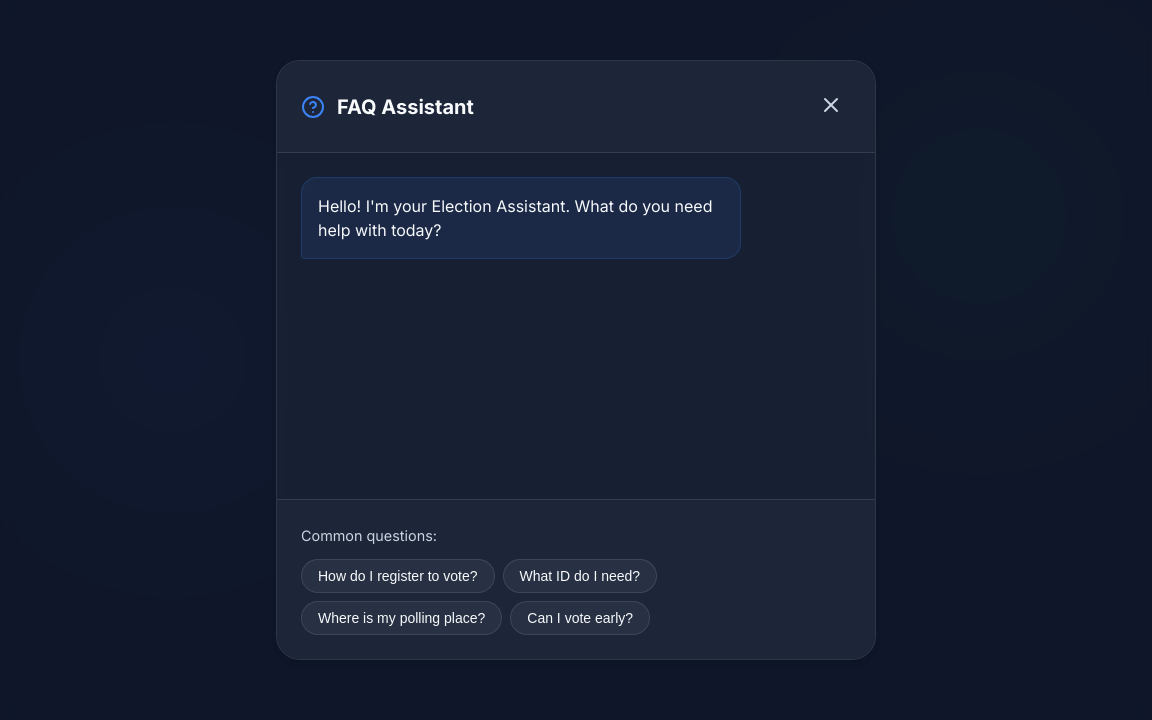
Test: ChatModal › shows a bot response after clicking a FAQ chip
The width and height of the screenshot is (1152, 720).
Click the button "How do I register to vote?" at x=398, y=576, box [301,559,494,593]
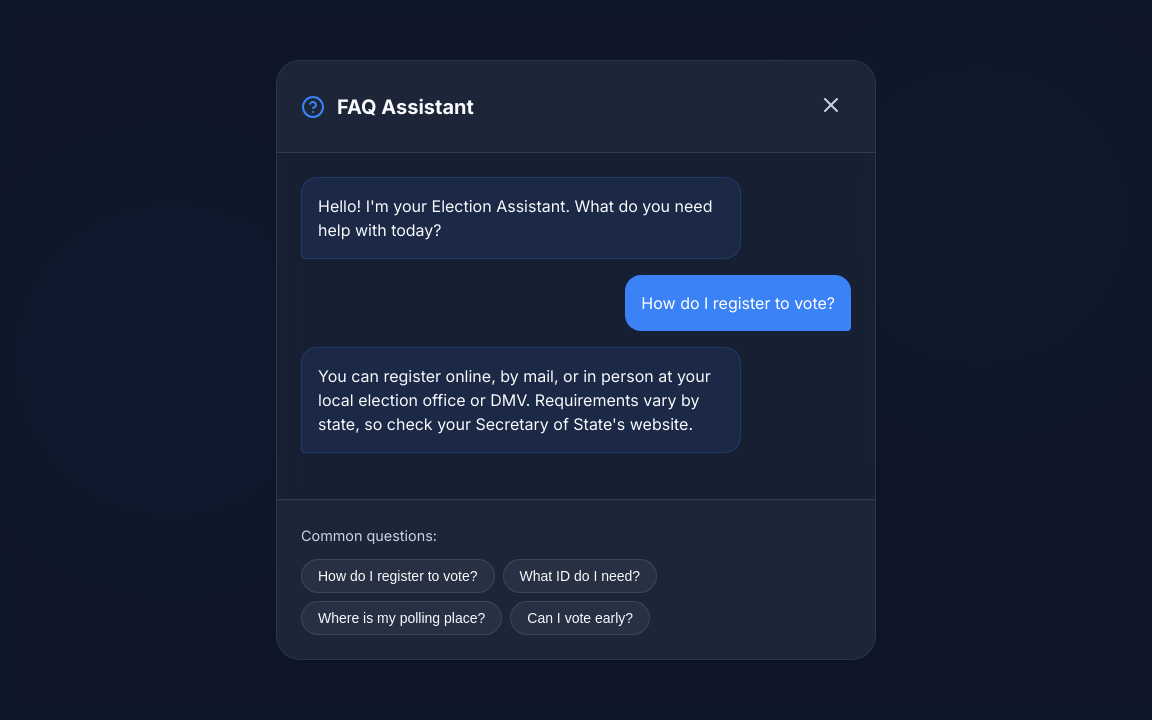
expect the text "You can register online, by mail, or in person at your local election office or DMV. Requirements vary by state, so chec" is shown: met, box [318,366,711,434]
